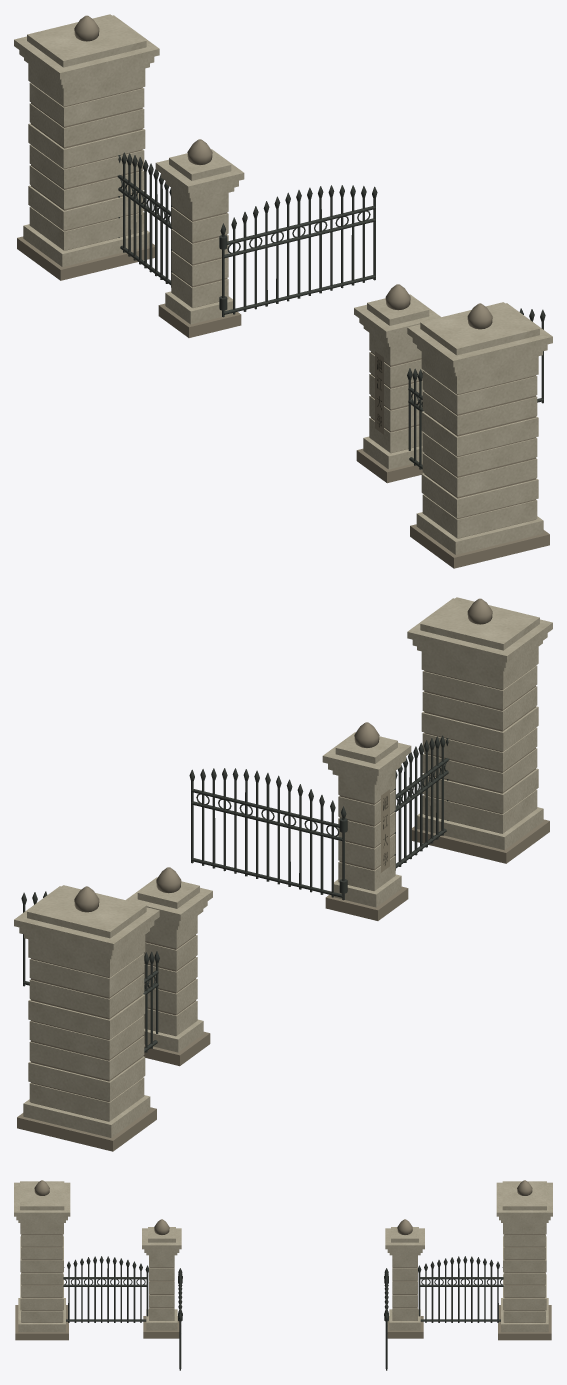
Rendered from gate.glb.
The picture shows the model from 3 angles, top to bottom: view 1: azimuth 30°, elevation 25°; view 2: azimuth 150°, elevation 25°; view 3: azimuth 270°, elevation 25°; orthographic projection. The views are drawn at different scales.
Visible parts, largest first — view 1: Millard gate; view 2: Millard gate; view 3: Millard gate.
Part boxes in pixels (x1,y1,x2,y2): Millard gate: [14, 14, 552, 568]; Millard gate: [14, 597, 552, 1151]; Millard gate: [14, 1180, 552, 1370].
Bounding box in the file's own units: 4.38 × 4.35 × 14.63.
4 materials, 2 textured.
